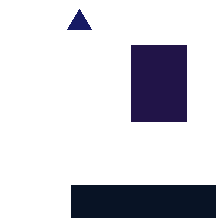rectangle: (71, 185, 215, 217), (131, 45, 186, 121)
triangle: (67, 9, 91, 29)
